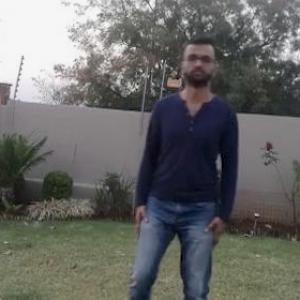follow: (138, 43, 235, 299)
